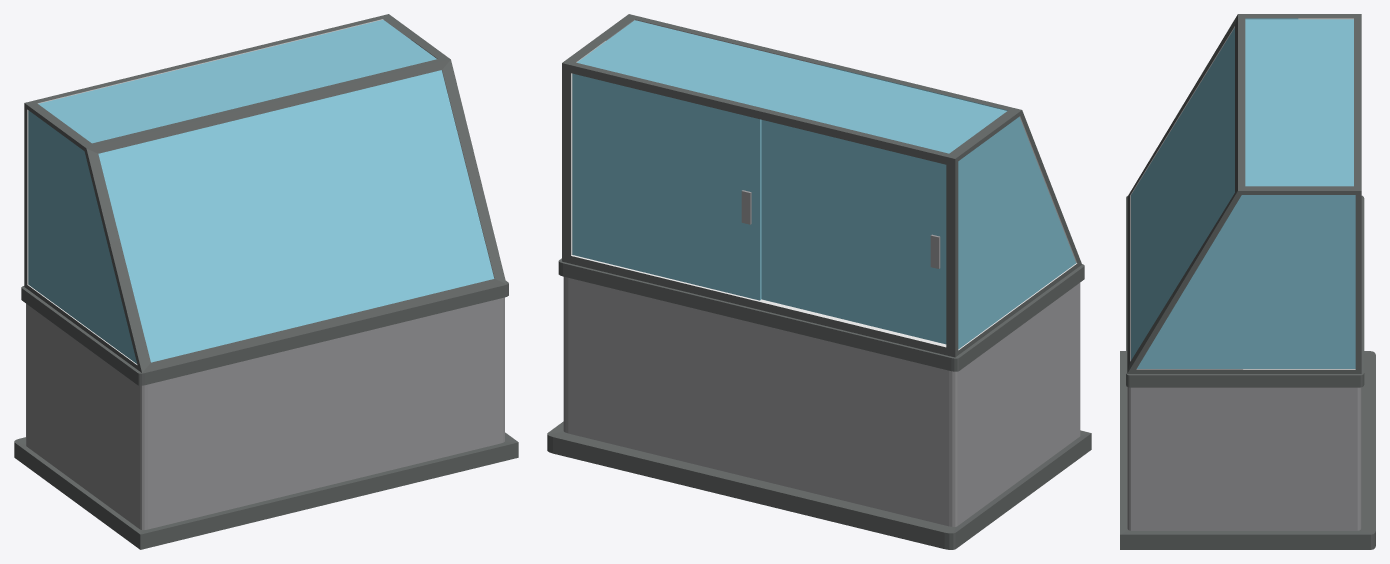
Rendered from etalase.fbx.
3 renders of one model, left to right at view 1: azimuth 30°, elevation 25°; view 2: azimuth 150°, elevation 25°; view 3: azimuth 270°, elevation 25°, orthographic. The views are drawn at different scales.
Visible parts, largest first — view 1: Cube.003, Cube; view 2: Cube, Cube.003; view 3: Cube.003, Cube.
Boxes of the visible parts, x1,y1,x2,y2 form: Cube.003: (28, 19, 494, 363); Cube: (14, 14, 518, 549); Cube: (547, 14, 1091, 549); Cube.003: (572, 20, 1075, 349); Cube.003: (1131, 19, 1355, 368); Cube: (1120, 14, 1375, 549).
Size of the model in its own units: 494 by 446 by 291.
Materials: 3 (1 with a texture image).
